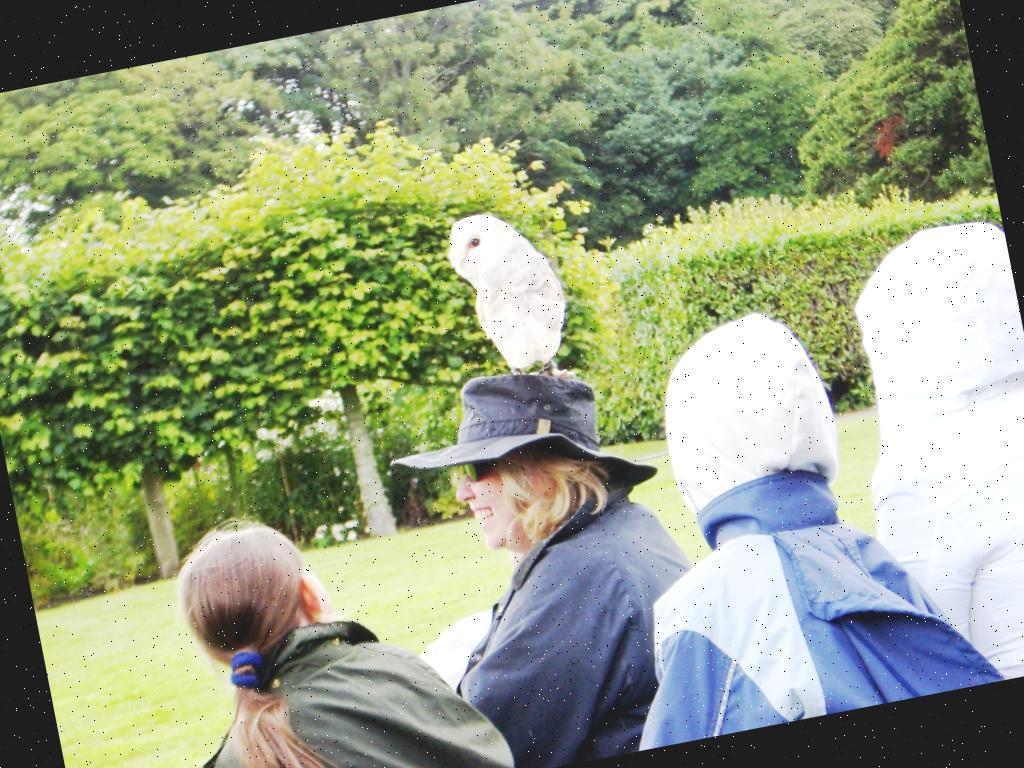Owl: (427, 187, 606, 411)
